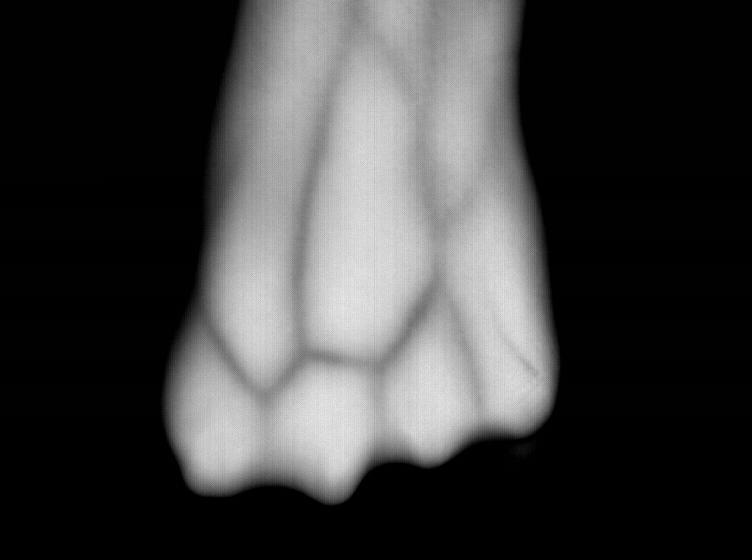Vein: (266, 100, 446, 399)
